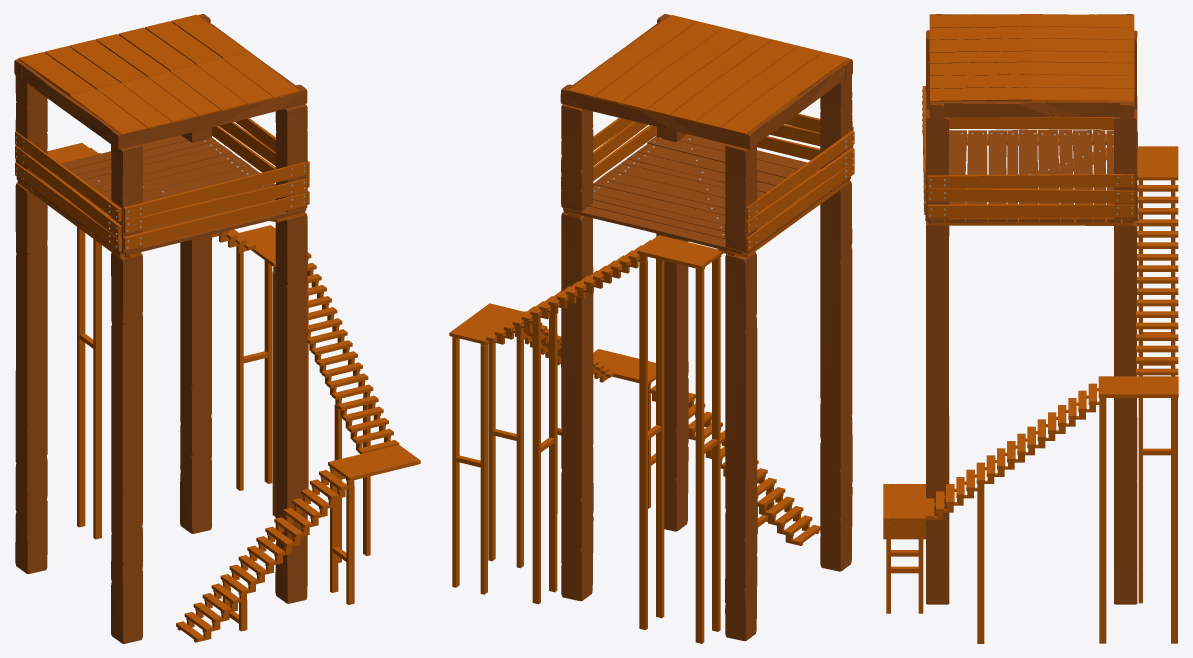
File: Watchtower.fbx
3 renders of one model, left to right at view 1: azimuth 30°, elevation 25°; view 2: azimuth 150°, elevation 25°; view 3: azimuth 270°, elevation 25°, orthographic.
Parts seen in each view (by area): view 1: Watchtower_LOD0; view 2: Watchtower_LOD0; view 3: Watchtower_LOD0.
Boxes of the visible parts, left/top/right/bottom form: Watchtower_LOD0: left=14, top=14, right=420, bottom=643; Watchtower_LOD0: left=449, top=14, right=854, bottom=643; Watchtower_LOD0: left=883, top=14, right=1178, bottom=643.
Size of what is drawn, in the model's own units: 2776 by 4828 by 2569.
